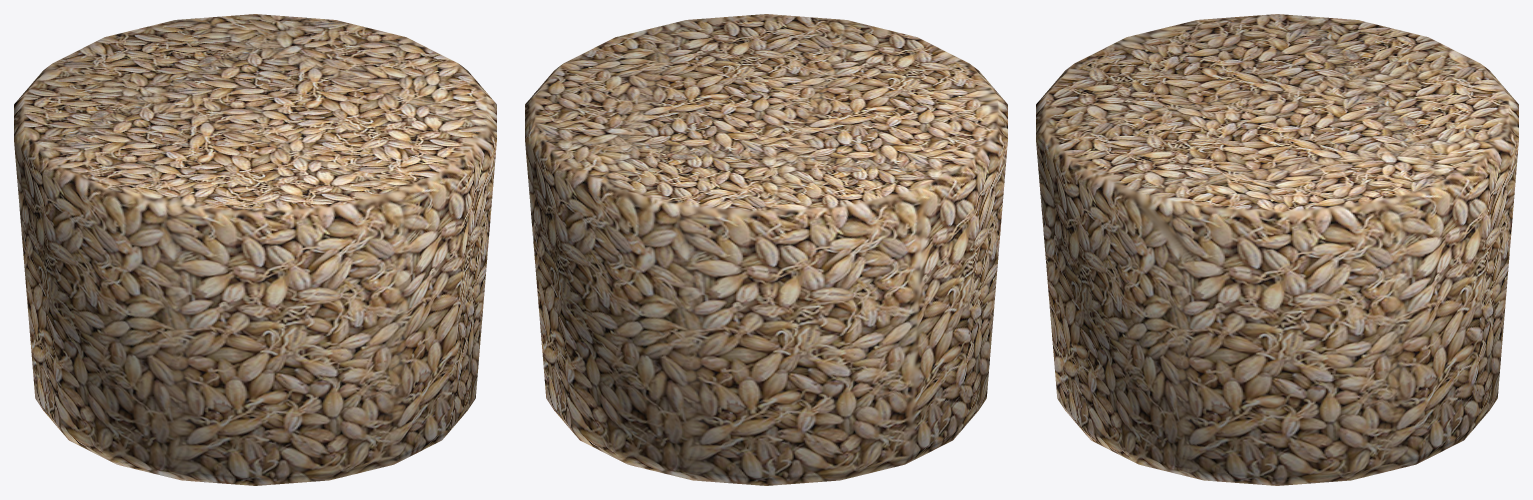
Rendered from rice_maia.fbx.
3 renders of one model, left to right at view 1: azimuth 30°, elevation 25°; view 2: azimuth 150°, elevation 25°; view 3: azimuth 270°, elevation 25°, orthographic.
Parts seen in each view (by area): view 1: rice; view 2: rice; view 3: rice.
Part boxes in pixels (x1,y1,x2,y2): rice: (14,14,496,485); rice: (525,14,1007,485); rice: (1036,14,1518,485).
Bounding box in the file's own units: 2.24 × 2.21 × 1.42.
